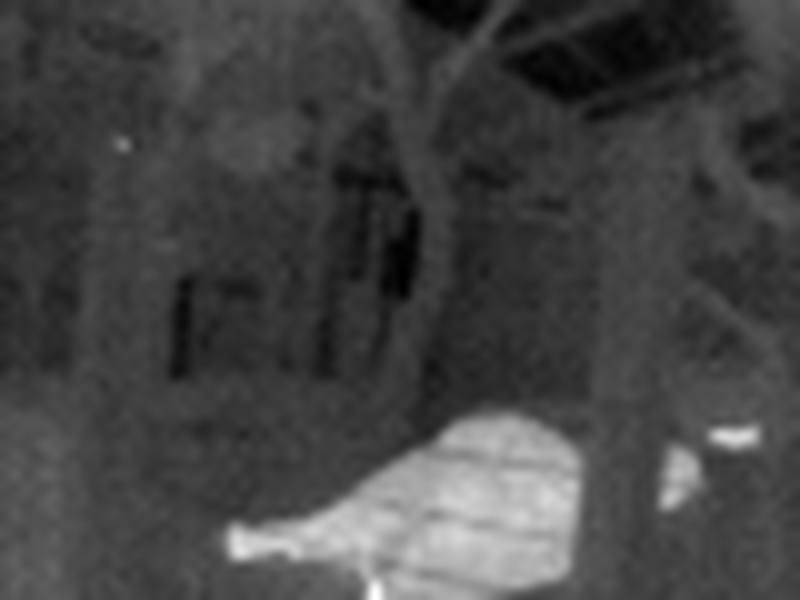elephant: (241, 398, 713, 600)
